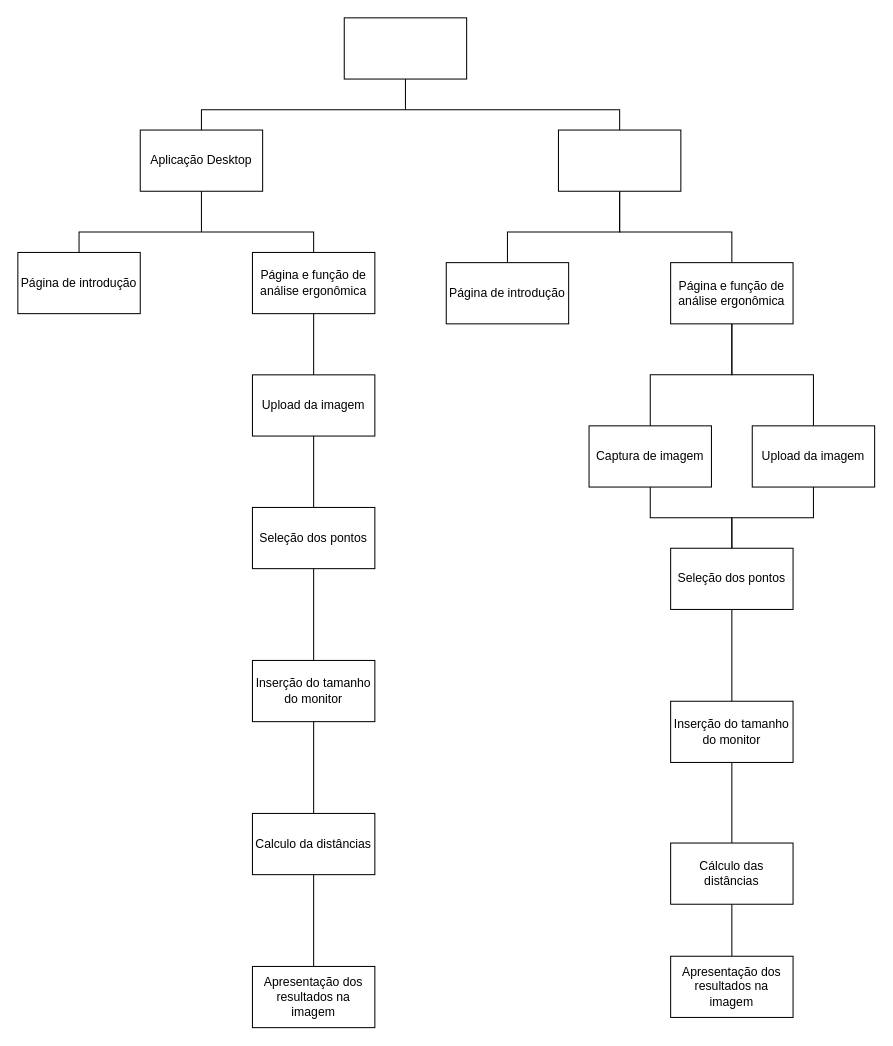
The diagram is 893 pixels wide and 1046 high, and some of its shapes have lost their labels. The centre of each missing label's shape, as x and y in pixels:
Análise ergonômica do ambiente: pixel 405 48
Aplicação Mobile: pixel 619 160
